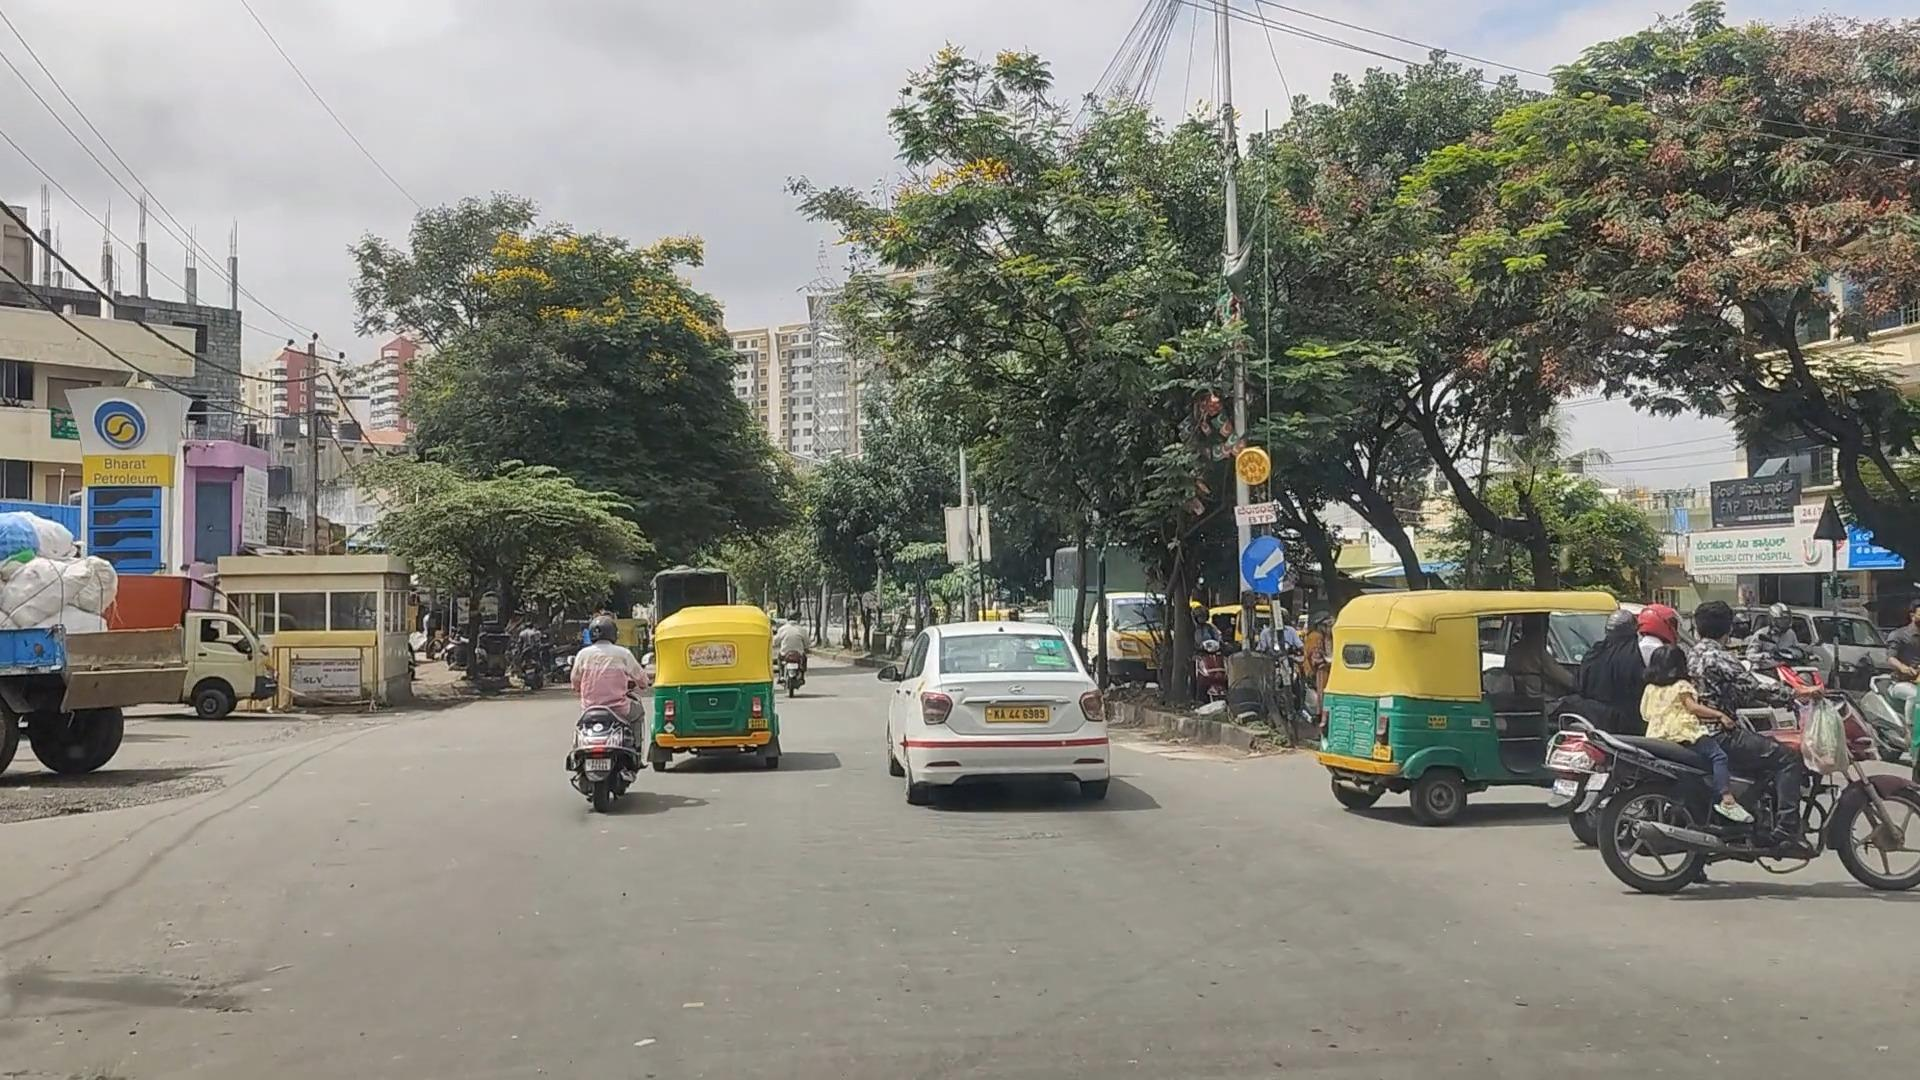LMV: (885, 629, 1110, 807), (653, 607, 778, 766), (549, 620, 649, 811)
